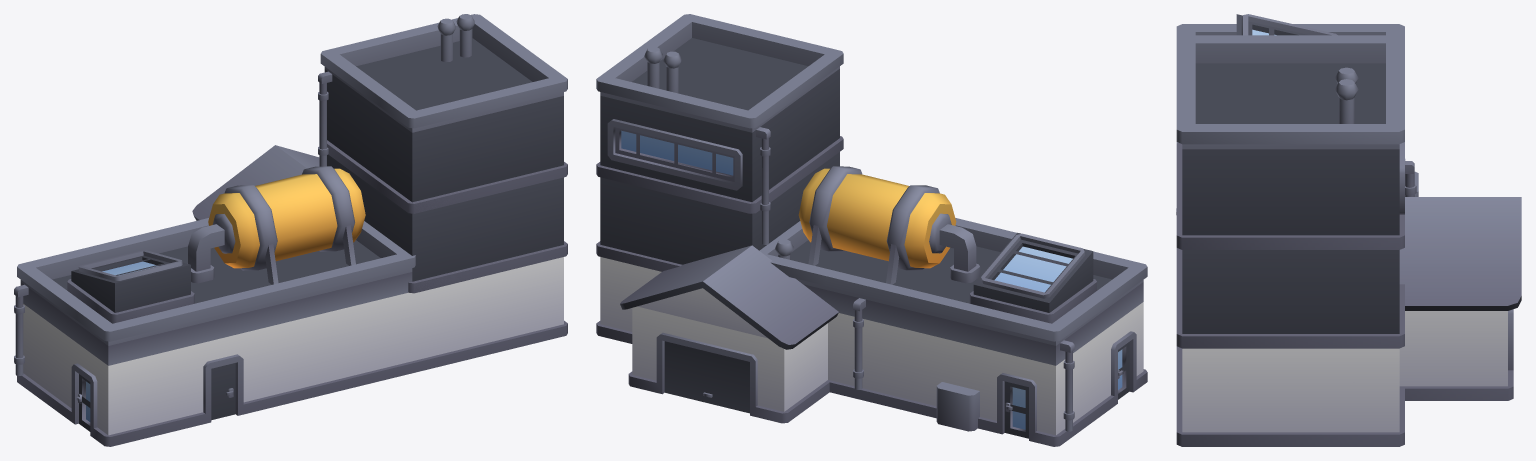
The model's file is building-r.glb.
3 renders of one model, left to right at view 1: azimuth 30°, elevation 25°; view 2: azimuth 150°, elevation 25°; view 3: azimuth 270°, elevation 25°, orthographic. The views are drawn at different scales.
Visible parts, largest first — view 1: building-r; view 2: building-r; view 3: building-r.
Boxes of the visible parts, x1,y1,x2,y2 form: building-r: [14, 14, 567, 446]; building-r: [596, 14, 1147, 446]; building-r: [1176, 14, 1521, 446].
Size of the model in its own units: 2.48 by 1.39 by 1.27.
1 material, 1 textured.
